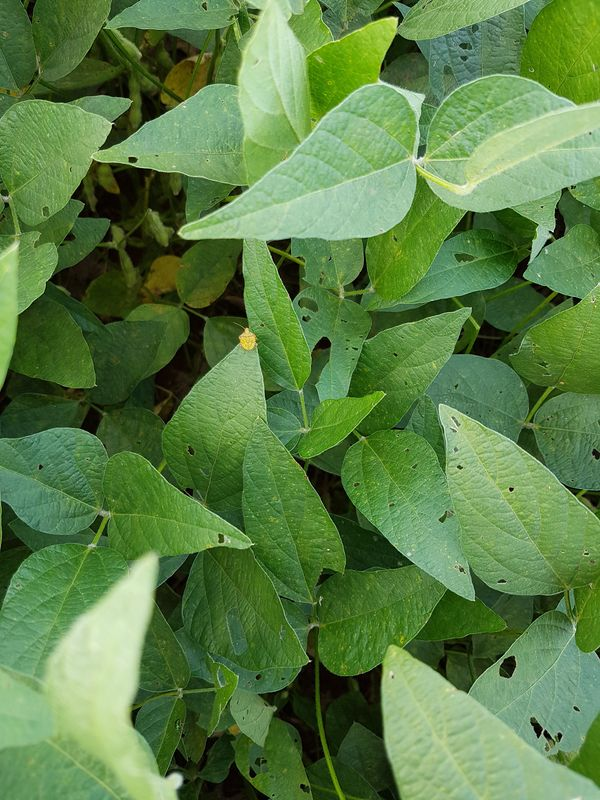Euschistus_heros_ninfa: (230, 320, 261, 354)
